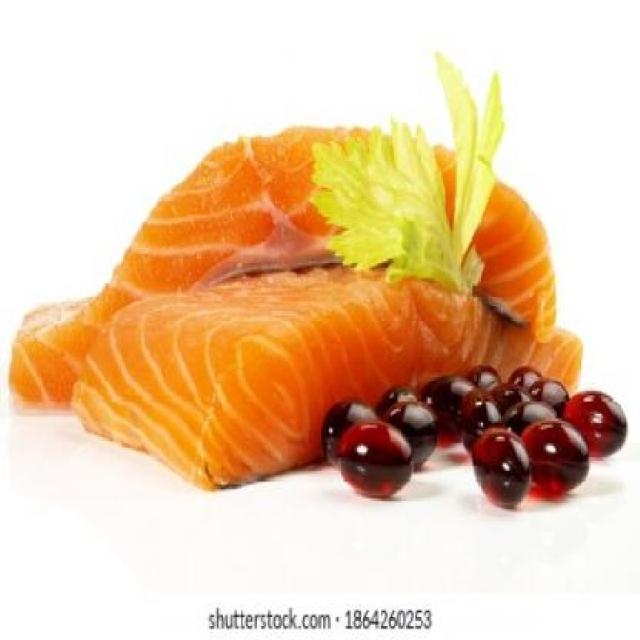salmon: (17, 104, 556, 408), (61, 268, 604, 494)
